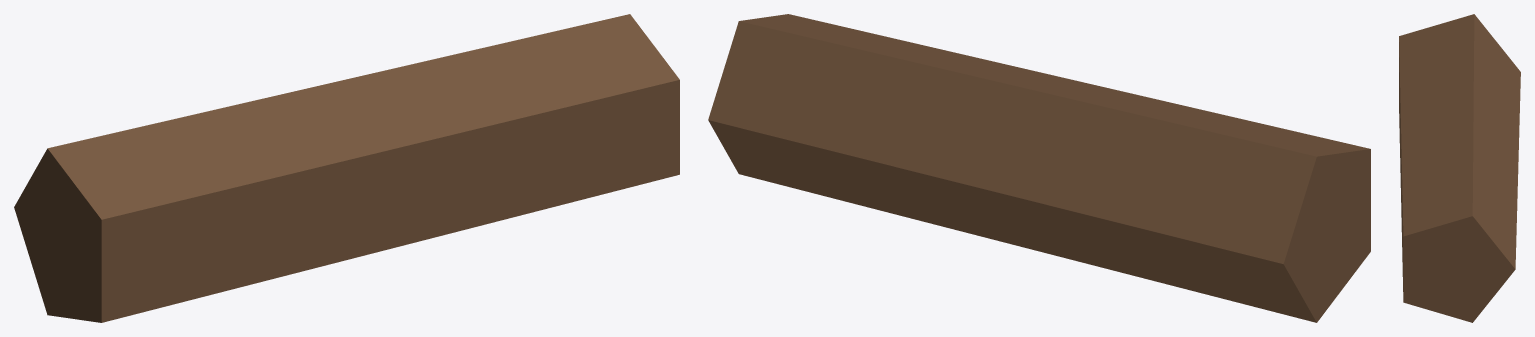
Rendered from log_split.fbx.
3 views of the same model, side by side, from view 1: azimuth 30°, elevation 25°; view 2: azimuth 150°, elevation 25°; view 3: azimuth 270°, elevation 25° (orthographic). The views are drawn at different scales.
Visible parts, largest first — view 1: LogSplit; view 2: LogSplit; view 3: LogSplit.
Part boxes in pixels (x1,y1,x2,y2): LogSplit: (14, 14, 679, 322); LogSplit: (708, 14, 1370, 322); LogSplit: (1399, 14, 1520, 322).
Size of the model in its own units: 0.52 by 0.1427 by 0.1357.
